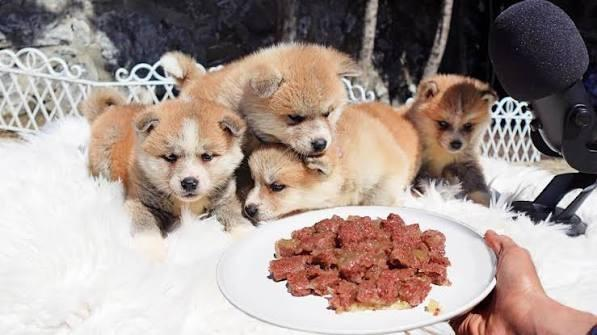puppy-dog: (80, 87, 254, 262), (240, 101, 423, 224), (165, 42, 357, 151), (397, 70, 497, 207)
